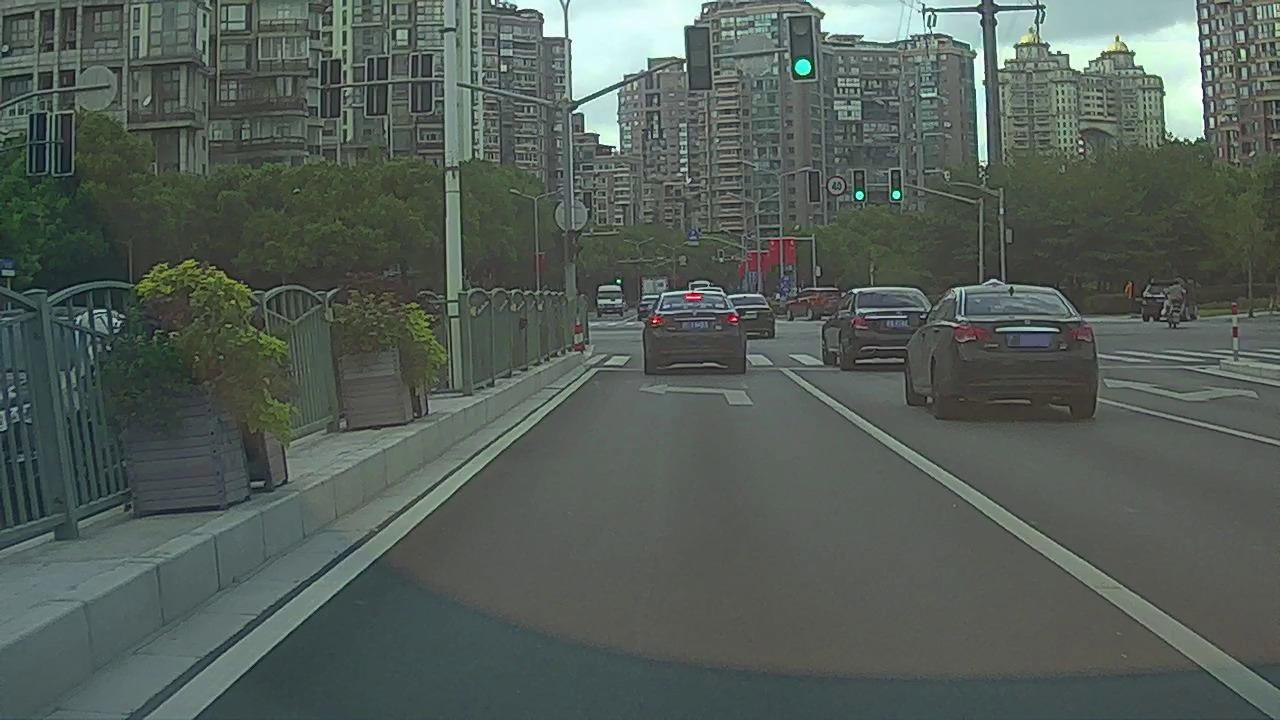traffic_light: (788, 17, 815, 79), (685, 28, 711, 90), (808, 171, 820, 202), (854, 171, 865, 202), (891, 170, 902, 201)
